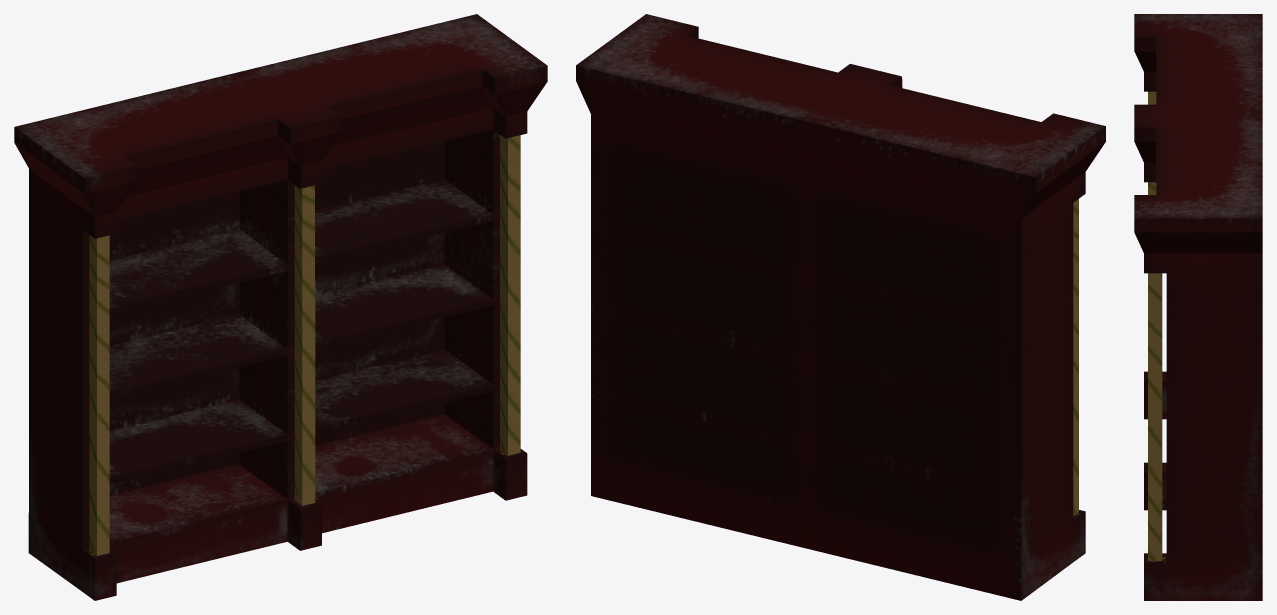
The model's file is Bookshelf-Large.fbx.
3 views of the same model, side by side, from view 1: azimuth 30°, elevation 25°; view 2: azimuth 150°, elevation 25°; view 3: azimuth 270°, elevation 25° (orthographic). The views are drawn at different scales.
Visible parts, largest first — view 1: Bookshelf-Large; view 2: Bookshelf-Large; view 3: Bookshelf-Large.
Boxes of the visible parts, box(x1,y1,x2,y2) form: Bookshelf-Large: box(14, 14, 547, 600); Bookshelf-Large: box(576, 14, 1105, 600); Bookshelf-Large: box(1134, 14, 1262, 600).
Size of the model in its own units: 190 by 169 by 50.31.
